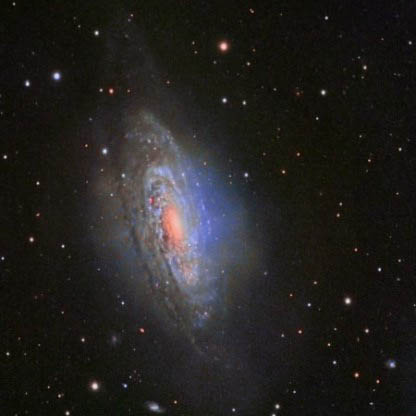NGC 3521: (58, 69, 288, 356)
